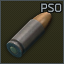9x19mm PSO gzh: (0, 0, 64, 64)
